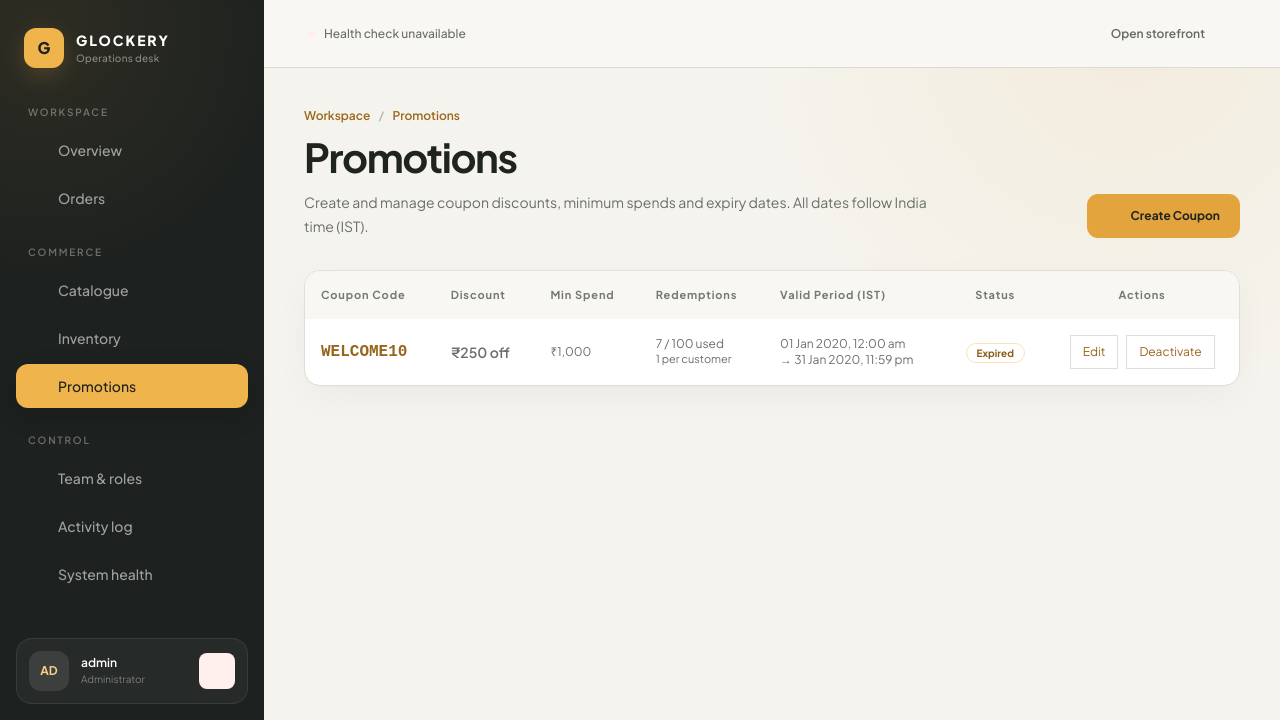
Scenario: black and gold commerce UI › shows coupon redemptions and edits money fields in rupees
The width and height of the screenshot is (1280, 720).
Click the button "Edit" at x=1094, y=352, box x1=1070 y1=335 x2=1118 y2=369
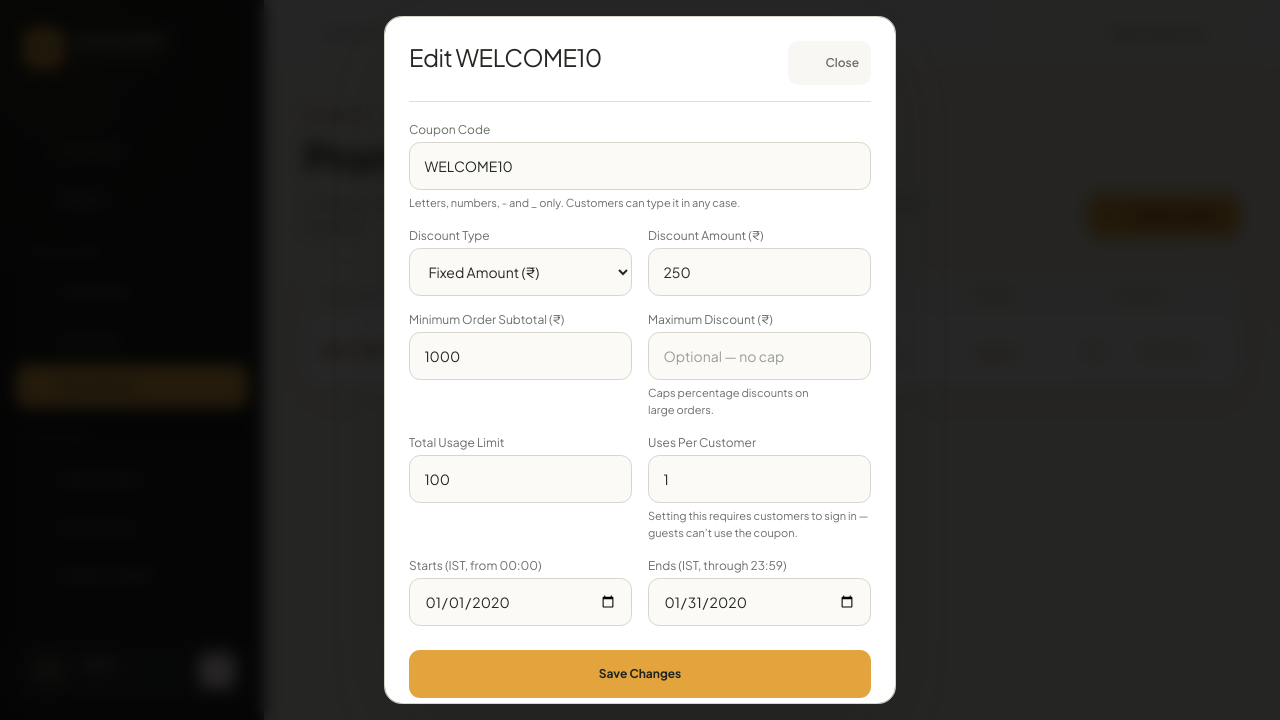
expect the text "Edit WELCOME10" is shown: met, box x1=409 y1=41 x2=602 y2=85
expect the text "Discount Amount (₹)" is shown: met, box x1=648 y1=228 x2=764 y2=243
expect the number field named "value" holds "250": met, box x1=648 y1=248 x2=871 y2=296
